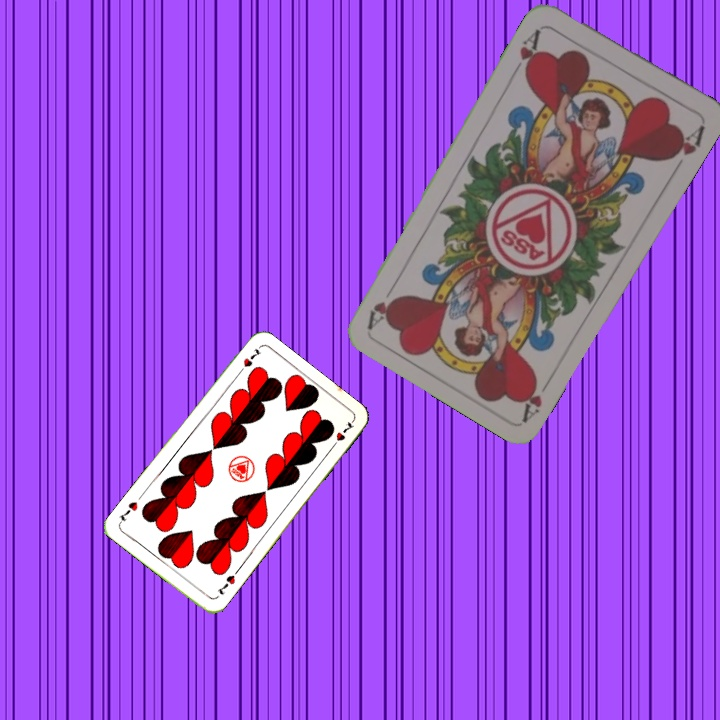H7: (233, 344, 264, 378), (214, 571, 238, 598)
HA: (516, 369, 557, 423), (509, 24, 546, 80)
